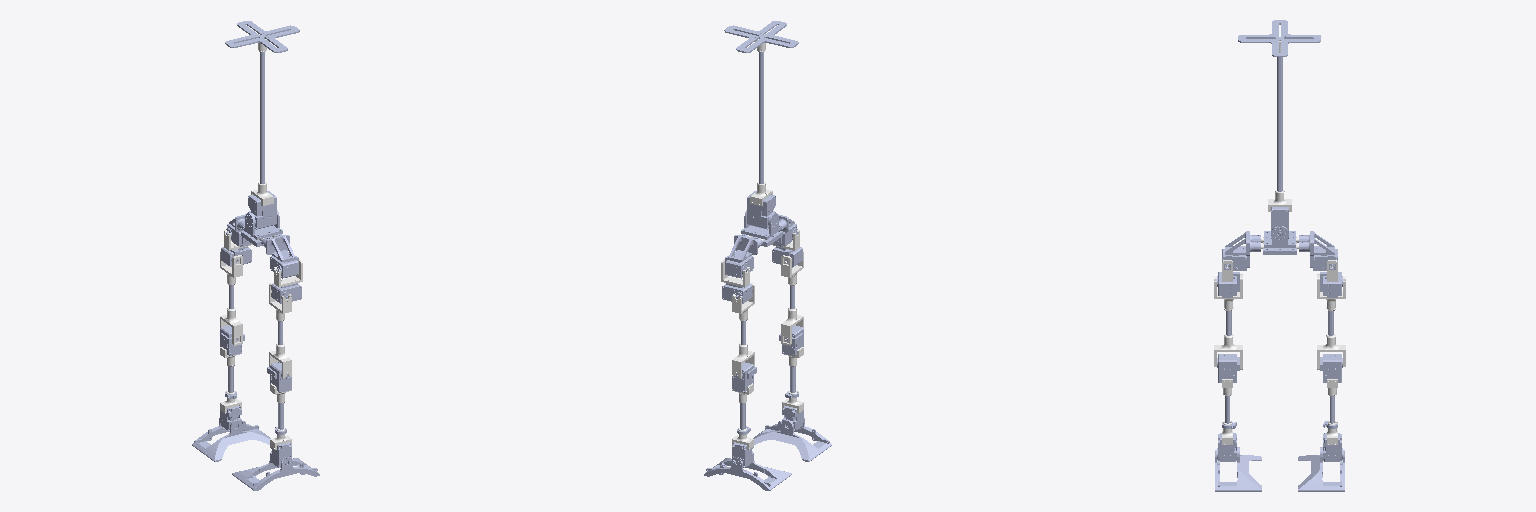
--- What the picture shows (computed from the rendered views, not written in the file) ---
The picture shows the robot from 3 angles, left to right: view 1: azimuth 30°, elevation 25°; view 2: azimuth 150°, elevation 25°; view 3: azimuth 270°, elevation 25°; orthographic projection.
Robot: biped_v4 — 47 links, 46 joints (9 revolute, 37 fixed); root link world; default pose: every joint at zero.
Links seen in each view (by area): view 1: revolute_rightfoot, revolute_leftfoot, fix_torsoweight, servo1, fix_torsolink2, fix_leftlegtobaselink; view 2: revolute_leftfoot, revolute_rightfoot, fix_torsoweight, servo1, fix_torsolink2, fix_rightlegtobaselink; view 3: fix_torsoweight, revolute_leftfoot, revolute_rightfoot, fix_torsolink2, fix_leftlegtobaselink, fix_rightlegtobaselink.
Link boxes in pixels (box(x1,y1,x2,y2)): revolute_rightfoot: box(192, 418, 270, 461); revolute_leftfoot: box(232, 451, 319, 490); fix_torsoweight: box(225, 21, 299, 52); servo1: box(248, 191, 276, 229); fix_torsolink2: box(260, 52, 264, 183); fix_leftlegtobaselink: box(261, 234, 295, 261); revolute_leftfoot: box(753, 418, 831, 461); revolute_rightfoot: box(704, 451, 791, 490); fix_torsoweight: box(724, 21, 798, 52); servo1: box(747, 191, 775, 229); fix_torsolink2: box(759, 52, 763, 183); fix_rightlegtobaselink: box(728, 234, 762, 261); fix_torsoweight: box(1238, 20, 1320, 56); revolute_leftfoot: box(1215, 447, 1261, 491); revolute_rightfoot: box(1298, 447, 1344, 491); fix_torsolink2: box(1277, 57, 1282, 191); fix_leftlegtobaselink: box(1225, 231, 1260, 267); fix_rightlegtobaselink: box(1299, 231, 1334, 267).
Bounding box of the posed robot: 0.1605 × 0.2365 × 0.8764 m (x, y, z).
Meshes: 46 distinct files referenced, 46 mesh visuals loaded (46 binary STL).

URDF robot description (biped_v4):
<?xml version="1.0" ?>
<!-- =================================================================================== -->
<!-- |    This document was autogenerated by xacro from /ros2_ws/src/robot_bringup/urdf/biped_v4.urdf.xacro | -->
<!-- |    EDITING THIS FILE BY HAND IS NOT RECOMMENDED                                 | -->
<!-- =================================================================================== -->
<robot name="biped_v4">
  <!-- WORLD -->
  <link name="world"/>
  <!-- BASE LINK -->
  <joint name="base_joint" type="fixed">
    <parent link="world"/>
    <child link="base_link"/>
    <origin rpy="0 0 0" xyz="0.0 0.0 1.0"/>
  </joint>
  <link name="base_link">
    <inertial>
      <origin rpy="0 0 0" xyz="-1.1257E-18 1.209E-17 0.0040839"/>
      <mass value="0.018"/>
      <inertia ixx="8.1069E-06" ixy="3.6409E-21" ixz="-1.5116E-21" iyy="8.5785E-06" iyz="1.6877E-21" izz="1.6342E-05"/>
    </inertial>
    <visual>
      <origin rpy="0 0 0" xyz="0 0 0"/>
      <geometry>
        <mesh filename="meshes/base_link.STL"/>
      </geometry>
      <material name="">
        <color rgba="0.79216 0.81961 0.93333 1"/>
      </material>
    </visual>
    <collision>
      <origin rpy="0 0 0" xyz="0 0 0"/>
      <geometry>
        <mesh filename="meshes/base_link.STL"/>
      </geometry>
    </collision>
  </link>
  <link name="fix_leftlegtobaselink">
    <inertial>
      <origin rpy="0 0 0" xyz="3.1196E-09 -0.059316 0.0042205"/>
      <mass value="0.028"/>
      <inertia ixx="8.1588E-06" ixy="-1.3085E-13" ixz="-4.33E-11" iyy="7.7241E-06" iyz="-9.9424E-07" izz="8.6259E-06"/>
    </inertial>
    <visual>
      <origin rpy="0 0 0" xyz="0 0 0"/>
      <geometry>
        <mesh filename="meshes/fix_leftlegtobaselink.STL"/>
      </geometry>
      <material name="">
        <color rgba="0.79216 0.81961 0.93333 1"/>
      </material>
    </visual>
    <collision>
      <origin rpy="0 0 0" xyz="0 0 0"/>
      <geometry>
        <mesh filename="meshes/fix_leftlegtobaselink.STL"/>
      </geometry>
    </collision>
  </link>
  <joint name="leftlegtobaselink" type="fixed">
    <origin rpy="0 0 0" xyz="0 0 0"/>
    <parent link="base_link"/>
    <child link="fix_leftlegtobaselink"/>
    <axis xyz="0 0 0"/>
  </joint>
  <link name="fix_lefthip1towaist">
    <inertial>
      <origin rpy="0 0 0" xyz="-0.00081105 -0.082311 -0.024125"/>
      <mass value="0.08"/>
      <inertia ixx="1.0361E-05" ixy="-2.2331E-07" ixz="-2.3381E-17" iyy="6.7254E-06" iyz="-2.8598E-14" izz="1.1542E-05"/>
    </inertial>
    <visual>
      <origin rpy="0 0 0" xyz="0 0 0"/>
      <geometry>
        <mesh filename="meshes/fix_lefthip1towaist.STL"/>
      </geometry>
      <material name="">
        <color rgba="0.79216 0.81961 0.93333 1"/>
      </material>
    </visual>
    <collision>
      <origin rpy="0 0 0" xyz="0 0 0"/>
      <geometry>
        <mesh filename="meshes/fix_lefthip1towaist.STL"/>
      </geometry>
    </collision>
  </link>
  <joint name="lefthip1towaist" type="fixed">
    <origin rpy="0 0 0" xyz="0 0 0"/>
    <parent link="fix_leftlegtobaselink"/>
    <child link="fix_lefthip1towaist"/>
    <axis xyz="0 0 0"/>
  </joint>
  <link name="revolute_left_femur1_1">
    <inertial>
      <origin rpy="0 0 0" xyz="0.019235 -1.3878E-17 0.026145"/>
      <mass value="0.016"/>
      <inertia ixx="4.4847E-06" ixy="-3.2515E-22" ixz="2.5399E-07" iyy="5.4156E-06" iyz="6.6534E-22" izz="1.6499E-06"/>
    </inertial>
    <visual>
      <origin rpy="0 0 0" xyz="0 0 0"/>
      <geometry>
        <mesh filename="meshes/revolute_left_femur1_1.STL"/>
      </geometry>
      <material name="">
        <color rgba="1 1 1 1"/>
      </material>
    </visual>
    <collision>
      <origin rpy="0 0 0" xyz="0 0 0"/>
      <geometry>
        <mesh filename="meshes/revolute_left_femur1_1.STL"/>
      </geometry>
    </collision>
  </link>
  <joint name="left_hip1" type="revolute">
    <origin rpy="0 1.5707963267949 0" xyz="-0.0234 -0.09425 -0.024125"/>
    <parent link="fix_lefthip1towaist"/>
    <child link="revolute_left_femur1_1"/>
    <axis xyz="0 0 -1"/>
    <limit effort="5" lower="0" upper="0.3" velocity="4"/>
  </joint>
  <link name="fix_leftfemur1_2">
    <inertial>
      <origin rpy="0 0 0" xyz="0.048875 -0.00081105 0.021339"/>
      <mass value="0.08"/>
      <inertia ixx="1.1542E-05" ixy="-2.3396E-17" ixz="-2.8598E-14" iyy="1.0361E-05" iyz="-2.2331E-07" izz="6.7254E-06"/>
    </inertial>
    <visual>
      <origin rpy="0 0 0" xyz="0 0 0"/>
      <geometry>
        <mesh filename="meshes/fix_leftfemur1_2.STL"/>
      </geometry>
      <material name="">
        <color rgba="0.79216 0.81961 0.93333 1"/>
      </material>
    </visual>
    <collision>
      <origin rpy="0 0 0" xyz="0 0 0"/>
      <geometry>
        <mesh filename="meshes/fix_leftfemur1_2.STL"/>
      </geometry>
    </collision>
  </link>
  <joint name="leftfemur1_2" type="fixed">
    <origin rpy="0 0 0" xyz="0 0 0"/>
    <parent link="revolute_left_femur1_1"/>
    <child link="fix_leftfemur1_2"/>
    <axis xyz="0 0 0"/>
  </joint>
  <link name="revolute_left_femur2_1">
    <inertial>
      <origin rpy="0 0 0" xyz="-1.5434E-11 -0.024976 -0.025952"/>
      <mass value="0.016"/>
      <inertia ixx="7.0717E-06" ixy="-1.5333E-15" ixz="2.8537E-12" iyy="4.694E-06" iyz="2.9746E-07" izz="3.2637E-06"/>
    </inertial>
    <visual>
      <origin rpy="0 0 0" xyz="0 0 0"/>
      <geometry>
        <mesh filename="meshes/revolute_left_femur2_1.STL"/>
      </geometry>
      <material name="">
        <color rgba="1 1 1 1"/>
      </material>
    </visual>
    <collision>
      <origin rpy="0 0 0" xyz="0 0 0"/>
      <geometry>
        <mesh filename="meshes/revolute_left_femur2_1.STL"/>
      </geometry>
    </collision>
  </link>
  <joint name="left_hip2" type="revolute">
    <origin rpy="1.5707963267949 -1.5707963267949 0" xyz="0.048875 -0.0234 0.00939999999999994"/>
    <parent link="fix_leftfemur1_2"/>
    <child link="revolute_left_femur2_1"/>
    <axis xyz="0 0 1"/>
    <limit effort="5" lower="-1.732" upper="1.732" velocity="5"/>
  </joint>
  <link name="fix_left_femur2_2">
    <inertial>
      <origin rpy="0 0 0" xyz="1.5434E-11 -0.13702 -0.025952"/>
      <mass value="0.016"/>
      <inertia ixx="7.0717E-06" ixy="-1.5333E-15" ixz="-2.8537E-12" iyy="4.694E-06" iyz="-2.9746E-07" izz="3.2637E-06"/>
    </inertial>
    <visual>
      <origin rpy="0 0 0" xyz="0 0 0"/>
      <geometry>
        <mesh filename="meshes/fix_left_femur2_2.STL"/>
      </geometry>
      <material name="">
        <color rgba="1 1 1 1"/>
      </material>
    </visual>
    <collision>
      <origin rpy="0 0 0" xyz="0 0 0"/>
      <geometry>
        <mesh filename="meshes/fix_left_femur2_2.STL"/>
      </geometry>
    </collision>
  </link>
  <joint name="left_femur2_2" type="fixed">
    <origin rpy="0 0 0" xyz="0 0 0"/>
    <parent link="revolute_left_femur2_1"/>
    <child link="fix_left_femur2_2"/>
    <axis xyz="0 0 0"/>
  </joint>
  <link name="revolute_left_knee">
    <inertial>
      <origin rpy="0 0 0" xyz="6.9714E-13 -0.011939 0.022589"/>
      <mass value="0.08"/>
      <inertia ixx="1.1542E-05" ixy="2.8598E-14" ixz="-2.338E-17" iyy="6.7254E-06" iyz="2.2331E-07" izz="1.0361E-05"/>
    </inertial>
    <visual>
      <origin rpy="0 0 0" xyz="0 0 0"/>
      <geometry>
        <mesh filename="meshes/revolute_left_knee.STL"/>
      </geometry>
      <material name="">
        <color rgba="0.79216 0.81961 0.93333 1"/>
      </material>
    </visual>
    <collision>
      <origin rpy="0 0 0" xyz="0 0 0"/>
      <geometry>
        <mesh filename="meshes/revolute_left_knee.STL"/>
      </geometry>
    </collision>
  </link>
  <joint name="left_knee" type="revolute">
    <origin rpy="-3.14159265358979 0 -3.14159265358979" xyz="0 -0.162 0"/>
    <parent link="fix_left_femur2_2"/>
    <child link="revolute_left_knee"/>
    <axis xyz="0 0 1"/>
    <limit effort="5" lower="-2" upper="2" velocity="5"/>
  </joint>
  <link name="fix_lefttibia_1">
    <inertial>
      <origin rpy="0 0 0" xyz="-8.9841E-06 -0.16908 0.022299"/>
      <mass value="0.04"/>
      <inertia ixx="1.096E-05" ixy="-4.4082E-09" ixz="-5.2455E-09" iyy="6.3088E-06" iyz="-2.5553E-07" izz="9.8712E-06"/>
    </inertial>
    <visual>
      <origin rpy="0 0 0" xyz="0 0 0"/>
      <geometry>
        <mesh filename="meshes/fix_lefttibia_1.STL"/>
      </geometry>
      <material name="">
        <color rgba="0.79216 0.81961 0.93333 1"/>
      </material>
    </visual>
    <collision>
      <origin rpy="0 0 0" xyz="0 0 0"/>
      <geometry>
        <mesh filename="meshes/fix_lefttibia_1.STL"/>
      </geometry>
    </collision>
  </link>
  <joint name="lefttibia_1" type="fixed">
    <origin rpy="0 0 0" xyz="0 0 0"/>
    <parent link="revolute_left_knee"/>
    <child link="fix_lefttibia_1"/>
    <axis xyz="0 0 0"/>
  </joint>
  <link name="revolute_leftfoot">
    <inertial>
      <origin rpy="0 0 0" xyz="-0.028804 -1.6064E-07 0.033846"/>
      <mass value="0.05"/>
      <inertia ixx="0.00015493" ixy="-5.5007E-11" ixz="3.0716E-06" iyy="3.7481E-05" iyz="6.021E-11" izz="0.00012863"/>
    </inertial>
    <visual>
      <origin rpy="0 0 0" xyz="0 0 0"/>
      <geometry>
        <mesh filename="meshes/revolute_leftfoot.STL"/>
      </geometry>
      <material name="">
        <color rgba="0.79216 0.81961 0.93333 1"/>
      </material>
    </visual>
    <collision>
      <origin rpy="0 0 0" xyz="0 0 0"/>
      <geometry>
        <mesh filename="meshes/revolute_leftfoot.STL"/>
      </geometry>
    </collision>
  </link>
  <joint name="left_ankle" type="revolute">
    <origin rpy="0 0 1.57079632679489" xyz="0 -0.181000000000001 0.00250000000000145"/>
    <parent link="fix_lefttibia_1"/>
    <child link="revolute_leftfoot"/>
    <axis xyz="0 0 -1"/>
    <limit effort="5" lower="-1.732" upper="1.732" velocity="5"/>
  </joint>
  <link name="fix_lefttibia_2">
    <inertial>
      <origin rpy="0 0 0" xyz="3.7002E-15 -0.13991 0.0234"/>
      <mass value="0.01"/>
      <inertia ixx="8.4456E-07" ixy="-7.3769E-20" ixz="1.598E-13" iyy="1.1166E-06" iyz="9.6352E-20" izz="1.4884E-06"/>
    </inertial>
    <visual>
      <origin rpy="0 0 0" xyz="0 0 0"/>
      <geometry>
        <mesh filename="meshes/fix_lefttibia_2.STL"/>
      </geometry>
      <material name="">
        <color rgba="1 1 1 1"/>
      </material>
    </visual>
    <collision>
      <origin rpy="0 0 0" xyz="0 0 0"/>
      <geometry>
        <mesh filename="meshes/fix_lefttibia_2.STL"/>
      </geometry>
    </collision>
  </link>
  <joint name="lefttibia_2" type="fixed">
    <origin rpy="0 0 0" xyz="0 0 0"/>
    <parent link="revolute_left_knee"/>
    <child link="fix_lefttibia_2"/>
    <axis xyz="0 0 0"/>
  </joint>
  <link name="fix_lefttibia_3">
    <inertial>
      <origin rpy="0 0 0" xyz="-0.00077912 -0.1234 0.026003"/>
      <mass value="0.0008"/>
      <inertia ixx="8.7805E-08" ixy="7.215E-23" ixz="8.4902E-09" iyy="1.4099E-07" iyz="-1.6657E-22" izz="6.0985E-08"/>
    </inertial>
    <visual>
      <origin rpy="0 0 0" xyz="0 0 0"/>
      <geometry>
        <mesh filename="meshes/fix_lefttibia_3.STL"/>
      </geometry>
      <material name="">
        <color rgba="0.79216 0.81961 0.93333 1"/>
      </material>
    </visual>
    <collision>
      <origin rpy="0 0 0" xyz="0 0 0"/>
      <geometry>
        <mesh filename="meshes/fix_lefttibia_3.STL"/>
      </geometry>
    </collision>
  </link>
  <joint name="lefttibia_3" type="fixed">
    <origin rpy="0 0 0" xyz="0 0 0"/>
    <parent link="revolute_left_knee"/>
    <child link="fix_lefttibia_3"/>
    <axis xyz="0 0 0"/>
  </joint>
  <link name="fix_lefttibia_4">
    <inertial>
      <origin rpy="0 0 0" xyz="-3.6429E-17 -0.0905 0.0234"/>
      <mass value="0.007"/>
      <inertia ixx="2.3852E-06" ixy="-1.1607E-21" ixz="1.9172E-24" iyy="5.7962E-08" iyz="1.2953E-21" izz="2.3852E-06"/>
    </inertial>
    <visual>
      <origin rpy="0 0 0" xyz="0 0 0"/>
      <geometry>
        <mesh filename="meshes/fix_lefttibia_4.STL"/>
      </geometry>
      <material name="">
        <color rgba="0.79216 0.81961 0.93333 1"/>
      </material>
    </visual>
    <collision>
      <origin rpy="0 0 0" xyz="0 0 0"/>
      <geometry>
        <mesh filename="meshes/fix_lefttibia_4.STL"/>
      </geometry>
    </collision>
  </link>
  <joint name="lefttibia_4" type="fixed">
    <origin rpy="0 0 0" xyz="0 0 0"/>
    <parent link="revolute_left_knee"/>
    <child link="fix_lefttibia_4"/>
    <axis xyz="0 0 0"/>
  </joint>
  <link name="fix_lefttibia_5">
    <inertial>
      <origin rpy="0 0 0" xyz="3.8181E-15 -0.04109 0.0234"/>
      <mass value="0.01"/>
      <inertia ixx="8.4456E-07" ixy="7.5351E-20" ixz="-1.598E-13" iyy="1.1166E-06" iyz="9.6295E-20" izz="1.4884E-06"/>
    </inertial>
    <visual>
      <origin rpy="0 0 0" xyz="0 0 0"/>
      <geometry>
        <mesh filename="meshes/fix_lefttibia_5.STL"/>
      </geometry>
      <material name="">
        <color rgba="1 1 1 1"/>
      </material>
    </visual>
    <collision>
      <origin rpy="0 0 0" xyz="0 0 0"/>
      <geometry>
        <mesh filename="meshes/fix_lefttibia_5.STL"/>
      </geometry>
    </collision>
  </link>
  <joint name="lefttibia_5" type="fixed">
    <origin rpy="0 0 0" xyz="0 0 0"/>
    <parent link="revolute_left_knee"/>
    <child link="fix_lefttibia_5"/>
    <axis xyz="0 0 0"/>
  </joint>
  <link name="fix_lefttibia_6">
    <inertial>
      <origin rpy="0 0 0" xyz="1.2143E-17 -0.00179 0.035364"/>
      <mass value="0.004"/>
      <inertia ixx="4.093E-07" ixy="2.5838E-23" ixz="2.8347E-22" iyy="1.0855E-06" iyz="1.343E-09" izz="7.5439E-07"/>
    </inertial>
    <visual>
      <origin rpy="0 0 0" xyz="0 0 0"/>
      <geometry>
        <mesh filename="meshes/fix_lefttibia_6.STL"/>
      </geometry>
      <material name="">
        <color rgba="0.79216 0.81961 0.93333 1"/>
      </material>
    </visual>
    <collision>
      <origin rpy="0 0 0" xyz="0 0 0"/>
      <geometry>
        <mesh filename="meshes/fix_lefttibia_6.STL"/>
      </geometry>
    </collision>
  </link>
  <joint name="lefttibia_6" type="fixed">
    <origin rpy="0 0 0" xyz="0 0 0"/>
    <parent link="revolute_left_knee"/>
    <child link="fix_lefttibia_6"/>
    <axis xyz="0 0 0"/>
  </joint>
  <link name="fix_left_femur2_3">
    <inertial>
      <origin rpy="0 0 0" xyz="2.5327E-16 -0.081 -0.0254"/>
      <mass value="0.007"/>
      <inertia ixx="2.3852E-06" ixy="3.2772E-21" ixz="6.7208E-24" iyy="5.7962E-08" iyz="-3.8231E-22" izz="2.3852E-06"/>
    </inertial>
    <visual>
      <origin rpy="0 0 0" xyz="0 0 0"/>
      <geometry>
        <mesh filename="meshes/fix_left_femur2_3.STL"/>
      </geometry>
      <material name="">
        <color rgba="0.79216 0.81961 0.93333 1"/>
      </material>
    </visual>
    <collision>
      <origin rpy="0 0 0" xyz="0 0 0"/>
      <geometry>
        <mesh filename="meshes/fix_left_femur2_3.STL"/>
      </geometry>
    </collision>
  </link>
  <joint name="left_femur2_3" type="fixed">
    <origin rpy="0 0 0" xyz="0 0 0"/>
    <parent link="revolute_left_femur2_1"/>
    <child link="fix_left_femur2_3"/>
    <axis xyz="0 0 0"/>
  </joint>
  <link name="fix_femur1_3">
    <inertial>
      <origin rpy="0 0 0" xyz="0.048875 0.0066861 0.018792"/>
      <mass value="0.008"/>
      <inertia ixx="1.446E-06" ixy="-2.2903E-22" ixz="6.4287E-22" iyy="2.2684E-06" iyz="3.6652E-07" izz="2.2752E-06"/>
    </inertial>
    <visual>
      <origin rpy="0 0 0" xyz="0 0 0"/>
      <geometry>
        <mesh filename="meshes/fix_femur1_3.STL"/>
      </geometry>
      <material name="">
        <color rgba="0.79216 0.81961 0.93333 1"/>
      </material>
    </visual>
    <collision>
      <origin rpy="0 0 0" xyz="0 0 0"/>
      <geometry>
        <mesh filename="meshes/fix_femur1_3.STL"/>
      </geometry>
    </collision>
  </link>
  <joint name="femur1_3" type="fixed">
    <origin rpy="0 0 0" xyz="0 0 0"/>
    <parent link="revolute_left_femur1_1"/>
    <child link="fix_femur1_3"/>
    <axis xyz="0 0 0"/>
  </joint>
  <link name="fix_femur1_4">
    <inertial>
      <origin rpy="0 0 0" xyz="-2.0817E-17 -9.7145E-17 0.0494"/>
      <mass value="0.0003"/>
      <inertia ixx="7.2605E-09" ixy="-4.1175E-24" ixz="-5.5707E-25" iyy="7.2605E-09" iyz="-7.9711E-25" izz="1.3645E-08"/>
    </inertial>
    <visual>
      <origin rpy="0 0 0" xyz="0 0 0"/>
      <geometry>
        <mesh filename="meshes/fix_femur1_4.STL"/>
      </geometry>
      <material name="">
        <color rgba="0.79216 0.81961 0.93333 1"/>
      </material>
    </visual>
    <collision>
      <origin rpy="0 0 0" xyz="0 0 0"/>
      <geometry>
        <mesh filename="meshes/fix_femur1_4.STL"/>
      </geometry>
    </collision>
  </link>
  <joint name="femur1_4" type="fixed">
    <origin rpy="0 0 0" xyz="0 0 0"/>
    <parent link="revolute_left_femur1_1"/>
    <child link="fix_femur1_4"/>
    <axis xyz="0 0 0"/>
  </joint>
  <link name="fix_lefthip1motorbody">
    <inertial>
      <origin rpy="0 0 0" xyz="1.0408E-17 0.0093922 0.030086"/>
      <mass value="0.008"/>
      <inertia ixx="1.446E-06" ixy="-4.6045E-22" ixz="5.3961E-23" iyy="2.2752E-06" iyz="3.6652E-07" izz="2.2684E-06"/>
    </inertial>
    <visual>
      <origin rpy="0 0 0" xyz="0 0 0"/>
      <geometry>
        <mesh filename="meshes/fix_lefthip1motorbody.STL"/>
      </geometry>
      <material name="">
        <color rgba="0.79216 0.81961 0.93333 1"/>
      </material>
    </visual>
    <collision>
      <origin rpy="0 0 0" xyz="0 0 0"/>
      <geometry>
        <mesh filename="meshes/fix_lefthip1motorbody.STL"/>
      </geometry>
    </collision>
  </link>
  <joint name="lefthip1motorbody" type="fixed">
    <origin rpy="0 1.5707963267949 0" xyz="-0.0234 -0.09425 -0.024125"/>
    <parent link="fix_leftlegtobaselink"/>
    <child link="fix_lefthip1motorbody"/>
    <axis xyz="0 0 0"/>
  </joint>
  <link name="fix_rightlegtobaselink">
    <inertial>
      <origin rpy="0 0 0" xyz="-3.1196E-09 0.059316 0.0042205"/>
      <mass value="0.028"/>
      <inertia ixx="8.1588E-06" ixy="-1.3085E-13" ixz="4.33E-11" iyy="7.7241E-06" iyz="9.9424E-07" izz="8.6259E-06"/>
    </inertial>
    <visual>
      <origin rpy="0 0 0" xyz="0 0 0"/>
      <geometry>
        <mesh filename="meshes/fix_rightlegtobaselink.STL"/>
      </geometry>
      <material name="">
        <color rgba="0.79216 0.81961 0.93333 1"/>
      </material>
    </visual>
    <collision>
      <origin rpy="0 0 0" xyz="0 0 0"/>
      <geometry>
        <mesh filename="meshes/fix_rightlegtobaselink.STL"/>
      </geometry>
    </collision>
  </link>
  <joint name="rightlegtobaselink" type="fixed">
    <origin rpy="0 0 0" xyz="0 0 0"/>
    <parent link="base_link"/>
    <child link="fix_rightlegtobaselink"/>
    <axis xyz="0 0 0"/>
  </joint>
  <link name="fix_righthip1towaist">
    <inertial>
      <origin rpy="0 0 0" xyz="-0.00081105 0.082311 -0.024125"/>
      <mass value="0.08"/>
      <inertia ixx="1.0361E-05" ixy="2.2331E-07" ixz="2.3379E-17" iyy="6.7254E-06" iyz="-2.8598E-14" izz="1.1542E-05"/>
    </inertial>
    <visual>
      <origin rpy="0 0 0" xyz="0 0 0"/>
      <geometry>
        <mesh filename="meshes/fix_righthip1towaist.STL"/>
      </geometry>
      <material name="">
        <color rgba="0.79216 0.81961 0.93333 1"/>
      </material>
    </visual>
    <collision>
      <origin rpy="0 0 0" xyz="0 0 0"/>
      <geometry>
        <mesh filename="meshes/fix_righthip1towaist.STL"/>
      </geometry>
    </collision>
  </link>
  <joint name="righthip1towaist" type="fixed">
    <origin rpy="0 0 0" xyz="0 0 0"/>
    <parent link="fix_rightlegtobaselink"/>
    <child link="fix_righthip1towaist"/>
    <axis xyz="0 0 0"/>
  </joint>
  <link name="revolute_rightfemer1_1">
    <inertial>
      <origin rpy="0 0 0" xyz="-1.3878E-17 -0.019235 0.026145"/>
      <mass value="0.016"/>
      <inertia ixx="5.4156E-06" ixy="-6.7112E-24" ixz="4.1894E-23" iyy="4.4847E-06" iyz="-2.5399E-07" izz="1.6499E-06"/>
    </inertial>
    <visual>
      <origin rpy="0 0 0" xyz="0 0 0"/>
      <geometry>
        <mesh filename="meshes/revolute_rightfemer1_1.STL"/>
      </geometry>
      <material name="">
        <color rgba="1 1 1 1"/>
      </material>
    </visual>
    <collision>
      <origin rpy="0 0 0" xyz="0 0 0"/>
      <geometry>
        <mesh filename="meshes/revolute_rightfemer1_1.STL"/>
      </geometry>
    </collision>
  </link>
  <joint name="right_hip1" type="revolute">
    <origin rpy="1.5707963267949 0 1.5707963267949" xyz="-0.0234 0.09425 -0.024125"/>
    <parent link="fix_righthip1towaist"/>
    <child link="revolute_rightfemer1_1"/>
    <axis xyz="0 0 -1"/>
    <limit effort="5" lower="-0.3" upper="0" velocity="5"/>
  </joint>
  <link name="fix_right_femer1_2">
    <inertial>
      <origin rpy="0 0 0" xyz="0.00081105 -0.048875 0.021339"/>
      <mass value="0.08"/>
      <inertia ixx="1.0361E-05" ixy="2.3366E-17" ixz="2.2331E-07" iyy="1.1542E-05" iyz="-2.8598E-14" izz="6.7254E-06"/>
    </inertial>
    <visual>
      <origin rpy="0 0 0" xyz="0 0 0"/>
      <geometry>
        <mesh filename="meshes/fix_right_femer1_2.STL"/>
      </geometry>
      <material name="">
        <color rgba="0.79216 0.81961 0.93333 1"/>
      </material>
    </visual>
    <collision>
      <origin rpy="0 0 0" xyz="0 0 0"/>
      <geometry>
        <mesh filename="meshes/fix_right_femer1_2.STL"/>
      </geometry>
    </collision>
  </link>
  <joint name="rightfemer1_2" type="fixed">
    <origin rpy="0 0 0" xyz="0 0 0"/>
    <parent link="revolute_rightfemer1_1"/>
    <child link="fix_right_femer1_2"/>
    <axis xyz="0 0 0"/>
  </joint>
  <link name="revolute_right_femur2_1">
    <inertial>
      <origin rpy="0 0 0" xyz="-1.5434E-11 -0.024976 -0.025952"/>
      <mass value="0.016"/>
      <inertia ixx="7.0717E-06" ixy="-1.5333E-15" ixz="2.8537E-12" iyy="4.694E-06" iyz="2.9746E-07" izz="3.2637E-06"/>
    </inertial>
    <visual>
      <origin rpy="0 0 0" xyz="0 0 0"/>
      <geometry>
        <mesh filename="meshes/revolute_right_femur2_1.STL"/>
      </geometry>
      <material name="">
        <color rgba="1 1 1 1"/>
      </material>
    </visual>
    <collision>
      <origin rpy="0 0 0" xyz="0 0 0"/>
      <geometry>
        <mesh filename="meshes/revolute_right_femur2_1.STL"/>
      </geometry>
    </collision>
  </link>
  <joint name="right_hip2" type="revolute">
    <origin rpy="0 1.5707963267949 0" xyz="0.0233999999999999 -0.048875 0.00940000000000001"/>
    <parent link="fix_right_femer1_2"/>
    <child link="revolute_right_femur2_1"/>
    <axis xyz="0 0 -1"/>
    <limit effort="5" lower="-1.732" upper="1.732" velocity="5"/>
  </joint>
  <link name="fix_right_femur2_2">
    <inertial>
      <origin rpy="0 0 0" xyz="1.5435E-11 -0.13702 -0.025952"/>
      <mass value="0.016"/>
      <inertia ixx="7.0717E-06" ixy="-1.5333E-15" ixz="-2.8537E-12" iyy="4.694E-06" iyz="-2.9746E-07" izz="3.2637E-06"/>
    </inertial>
    <visual>
      <origin rpy="0 0 0" xyz="0 0 0"/>
      <geometry>
        <mesh filename="meshes/fix_right_femur2_2.STL"/>
      </geometry>
      <material name="">
        <color rgba="1 1 1 1"/>
      </material>
    </visual>
    <collision>
      <origin rpy="0 0 0" xyz="0 0 0"/>
      <geometry>
        <mesh filename="meshes/fix_right_femur2_2.STL"/>
      </geometry>
    </collision>
  </link>
  <joint name="right_femur2_2" type="fixed">
    <origin rpy="0 0 0" xyz="0 0 0"/>
    <parent link="revolute_right_femur2_1"/>
    <child link="fix_right_femur2_2"/>
    <axis xyz="0 0 0"/>
  </joint>
  <link name="revolute_right_knee">
    <inertial>
      <origin rpy="0 0 0" xyz="-6.9722E-13 -0.011939 -0.022589"/>
      <mass value="0.08"/>
      <inertia ixx="1.1542E-05" ixy="-2.8598E-14" ixz="-2.3381E-17" iyy="6.7254E-06" iyz="-2.2331E-07" izz="1.0361E-05"/>
    </inertial>
    <visual>
      <origin rpy="0 0 0" xyz="0 0 0"/>
      <geometry>
        <mesh filename="meshes/revolute_right_knee.STL"/>
      </geometry>
      <material name="">
        <color rgba="0.79216 0.81961 0.93333 1"/>
      </material>
    </visual>
    <collision>
      <origin rpy="0 0 0" xyz="0 0 0"/>
      <geometry>
        <mesh filename="meshes/revolute_right_knee.STL"/>
      </geometry>
    </collision>
  </link>
  <joint name="right_knee" type="revolute">
    <origin rpy="0 0 0" xyz="0 -0.162000000000005 0"/>
    <parent link="fix_right_femur2_2"/>
    <child link="revolute_right_knee"/>
    <axis xyz="0 0 -1"/>
    <limit effort="5" lower="-2" upper="2" velocity="5"/>
  </joint>
  <link name="fix_righttibia_1">
    <inertial>
      <origin rpy="0 0 0" xyz="8.9841E-06 -0.16908 -0.022299"/>
      <mass value="0.04"/>
      <inertia ixx="1.096E-05" ixy="4.4082E-09" ixz="-5.2455E-09" iyy="6.3088E-06" iyz="2.5553E-07" izz="9.8712E-06"/>
    </inertial>
    <visual>
      <origin rpy="0 0 0" xyz="0 0 0"/>
      <geometry>
        <mesh filename="meshes/fix_righttibia_1.STL"/>
      </geometry>
      <material name="">
        <color rgba="0.79216 0.81961 0.93333 1"/>
      </material>
    </visual>
    <collision>
      <origin rpy="0 0 0" xyz="0 0 0"/>
      <geometry>
        <mesh filename="meshes/fix_righttibia_1.STL"/>
      </geometry>
    </collision>
  </link>
  <joint name="righttibia_1" type="fixed">
    <origin rpy="0 0 0" xyz="0 0 0"/>
    <parent link="revolute_right_knee"/>
    <child link="fix_righttibia_1"/>
    <axis xyz="0 0 0"/>
  </joint>
  <link name="revolute_rightfoot">
    <inertial>
      <origin rpy="0 0 0" xyz="-1.6064E-07 -0.028804 -0.033846"/>
      <mass value="0.05"/>
      <inertia ixx="3.7481E-05" ixy="-5.5007E-11" ixz="-6.021E-11" iyy="0.00015493" iyz="-3.0716E-06" izz="0.00012863"/>
    </inertial>
    <visual>
      <origin rpy="0 0 0" xyz="0 0 0"/>
      <geometry>
        <mesh filename="meshes/revolute_rightfoot.STL"/>
      </geometry>
      <material name="">
        <color rgba="0.79216 0.81961 0.93333 1"/>
      </material>
    </visual>
    <collision>
      <origin rpy="0 0 0" xyz="0 0 0"/>
      <geometry>
        <mesh filename="meshes/revolute_rightfoot.STL"/>
      </geometry>
    </collision>
  </link>
  <joint name="right_ankle" type="revolute">
    <origin rpy="0 0 0" xyz="0 -0.181000000000001 -0.00250000000000579"/>
    <parent link="fix_righttibia_1"/>
    <child link="revolute_rightfoot"/>
    <axis xyz="0 0 -1"/>
    <limit effort="5" lower="-1.732" upper="1.732" velocity="5"/>
  </joint>
  <link name="fix_righttibia_2">
    <inertial>
      <origin rpy="0 0 0" xyz="-3.4573E-15 -0.13991 -0.0234"/>
      <mass value="0.01"/>
      <inertia ixx="8.4456E-07" ixy="7.5676E-20" ixz="1.598E-13" iyy="1.1166E-06" iyz="-9.714E-20" izz="1.4884E-06"/>
    </inertial>
    <visual>
      <origin rpy="0 0 0" xyz="0 0 0"/>
      <geometry>
        <mesh filename="meshes/fix_righttibia_2.STL"/>
      </geometry>
      <material name="">
        <color rgba="1 1 1 1"/>
      </material>
    </visual>
    <collision>
      <origin rpy="0 0 0" xyz="0 0 0"/>
      <geometry>
        <mesh filename="meshes/fix_righttibia_2.STL"/>
      </geometry>
    </collision>
  </link>
  <joint name="righttibia_2" type="fixed">
    <origin rpy="0 0 0" xyz="0 0 0"/>
    <parent link="revolute_right_knee"/>
    <child link="fix_righttibia_2"/>
    <axis xyz="0 0 0"/>
  </joint>
  <link name="fix_righttibia_3">
    <inertial>
      <origin rpy="0 0 0" xyz="0.00077912 -0.1234 -0.026003"/>
      <mass value="0.0008"/>
      <inertia ixx="8.7805E-08" ixy="7.4808E-23" ixz="8.4902E-09" iyy="1.4099E-07" iyz="3.841E-23" izz="6.0985E-08"/>
    </inertial>
    <visual>
      <origin rpy="0 0 0" xyz="0 0 0"/>
      <geometry>
        <mesh filename="meshes/fix_righttibia_3.STL"/>
      </geometry>
      <material name="">
        <color rgba="0.79216 0.81961 0.93333 1"/>
      </material>
    </visual>
    <collision>
      <origin rpy="0 0 0" xyz="0 0 0"/>
      <geometry>
        <mesh filename="meshes/fix_righttibia_3.STL"/>
      </geometry>
    </collision>
  </link>
  <joint name="righttibia_3" type="fixed">
    <origin rpy="0 0 0" xyz="0 0 0"/>
    <parent link="revolute_right_knee"/>
    <child link="fix_righttibia_3"/>
    <axis xyz="0 0 0"/>
  </joint>
  <link name="fix_righttibia_4">
    <inertial>
      <origin rpy="0 0 0" xyz="5.0307E-17 -0.0905 -0.0234"/>
      <mass value="0.007"/>
      <inertia ixx="2.3852E-06" ixy="-6.0832E-22" ixz="7.7548E-24" iyy="5.7962E-08" iyz="-3.4962E-21" izz="2.3852E-06"/>
    </inertial>
    <visual>
      <origin rpy="0 0 0" xyz="0 0 0"/>
      <geometry>
        <mesh filename="meshes/fix_righttibia_4.STL"/>
      </geometry>
      <material name="">
        <color rgba="0.79216 0.81961 0.93333 1"/>
      </material>
    </visual>
    <collision>
      <origin rpy="0 0 0" xyz="0 0 0"/>
      <geometry>
        <mesh filename="meshes/fix_righttibia_4.STL"/>
      </geometry>
    </collision>
  </link>
  <joint name="righttibia_4" type="fixed">
    <origin rpy="0 0 0" xyz="0 0 0"/>
    <parent link="revolute_right_knee"/>
    <child link="fix_righttibia_4"/>
    <axis xyz="0 0 0"/>
  </joint>
  <link name="fix_righttibia_5">
    <inertial>
      <origin rpy="0 0 0" xyz="-3.8893E-15 -0.04109 -0.0234"/>
      <mass value="0.01"/>
      <inertia ixx="8.4456E-07" ixy="-7.5064E-20" ixz="-1.598E-13" iyy="1.1166E-06" iyz="-9.6815E-20" izz="1.4884E-06"/>
    </inertial>
    <visual>
      <origin rpy="0 0 0" xyz="0 0 0"/>
      <geometry>
        <mesh filename="meshes/fix_righttibia_5.STL"/>
      </geometry>
      <material name="">
        <color rgba="1 1 1 1"/>
      </material>
    </visual>
    <collision>
      <origin rpy="0 0 0" xyz="0 0 0"/>
      <geometry>
        <mesh filename="meshes/fix_righttibia_5.STL"/>
      </geometry>
    </collision>
  </link>
  <joint name="righttibia_5" type="fixed">
    <origin rpy="0 0 0" xyz="0 0 0"/>
    <parent link="revolute_right_knee"/>
    <child link="fix_righttibia_5"/>
    <axis xyz="0 0 0"/>
  </joint>
  <link name="fix_righttibia_6">
    <inertial>
      <origin rpy="0 0 0" xyz="-7.8063E-17 -0.00179 -0.035364"/>
      <mass value="0.004"/>
      <inertia ixx="4.093E-07" ixy="4.9597E-23" ixz="-1.5841E-22" iyy="1.0855E-06" iyz="-1.343E-09" izz="7.5439E-07"/>
    </inertial>
    <visual>
      <origin rpy="0 0 0" xyz="0 0 0"/>
      <geometry>
        <mesh filename="meshes/fix_righttibia_6.STL"/>
      </geometry>
      <material name="">
        <color rgba="0.79216 0.81961 0.93333 1"/>
      </material>
    </visual>
    <collision>
      <origin rpy="0 0 0" xyz="0 0 0"/>
      <geometry>
        <mesh filename="meshes/fix_righttibia_6.STL"/>
      </geometry>
    </collision>
  </link>
  <joint name="righttibia_6" type="fixed">
    <origin rpy="0 0 0" xyz="0 0 0"/>
    <parent link="revolute_right_knee"/>
    <child link="fix_righttibia_6"/>
    <axis xyz="0 0 0"/>
  </joint>
  <link name="fix_right_femur2_3">
    <inertial>
      <origin rpy="0 0 0" xyz="9.1073E-16 -0.081 -0.0254"/>
      <mass value="0.007"/>
      <inertia ixx="2.3852E-06" ixy="-9.7387E-22" ixz="-1.4648E-24" iyy="5.7962E-08" iyz="7.6195E-22" izz="2.3852E-06"/>
    </inertial>
    <visual>
      <origin rpy="0 0 0" xyz="0 0 0"/>
      <geometry>
        <mesh filename="meshes/fix_right_femur2_3.STL"/>
      </geometry>
      <material name="">
        <color rgba="0.79216 0.81961 0.93333 1"/>
      </material>
    </visual>
    <collision>
      <origin rpy="0 0 0" xyz="0 0 0"/>
      <geometry>
        <mesh filename="meshes/fix_right_femur2_3.STL"/>
      </geometry>
    </collision>
  </link>
  <joint name="right_femur2_3" type="fixed">
    <origin rpy="0 0 0" xyz="0 0 0"/>
    <parent link="revolute_right_femur2_1"/>
    <child link="fix_right_femur2_3"/>
    <axis xyz="0 0 0"/>
  </joint>
  <link name="fix_rightfemer1_3">
    <inertial>
      <origin rpy="0 0 0" xyz="-0.0066861 -0.048875 0.018792"/>
      <mass value="0.008"/>
      <inertia ixx="2.2684E-06" ixy="-7.6294E-22" ixz="-3.6652E-07" iyy="1.446E-06" iyz="-5.8617E-22" izz="2.2752E-06"/>
    </inertial>
    <visual>
      <origin rpy="0 0 0" xyz="0 0 0"/>
      <geometry>
        <mesh filename="meshes/fix_rightfemer1_3.STL"/>
      </geometry>
      <material name="">
        <color rgba="0.79216 0.81961 0.93333 1"/>
      </material>
    </visual>
    <collision>
      <origin rpy="0 0 0" xyz="0 0 0"/>
      <geometry>
        <mesh filename="meshes/fix_rightfemer1_3.STL"/>
      </geometry>
    </collision>
  </link>
  <joint name="rightfemer1_3" type="fixed">
    <origin rpy="0 0 0" xyz="0 0 0"/>
    <parent link="revolute_rightfemer1_1"/>
    <child link="fix_rightfemer1_3"/>
    <axis xyz="0 0 0"/>
  </joint>
  <link name="fix_rightfemer1_4">
    <inertial>
      <origin rpy="0 0 0" xyz="-4.1633E-17 4.1633E-17 0.0494"/>
      <mass value="0.0003"/>
      <inertia ixx="7.2605E-09" ixy="1.6111E-24" ixz="-2.095E-25" iyy="7.2605E-09" iyz="-5.894E-25" izz="1.3645E-08"/>
    </inertial>
    <visual>
      <origin rpy="0 0 0" xyz="0 0 0"/>
      <geometry>
        <mesh filename="meshes/fix_rightfemer1_4.STL"/>
      </geometry>
      <material name="">
        <color rgba="0.79216 0.81961 0.93333 1"/>
      </material>
    </visual>
    <collision>
      <origin rpy="0 0 0" xyz="0 0 0"/>
      <geometry>
        <mesh filename="meshes/fix_rightfemer1_4.STL"/>
      </geometry>
    </collision>
  </link>
  <joint name="rightfemer1_4" type="fixed">
    <origin rpy="0 0 0" xyz="0 0 0"/>
    <parent link="revolute_rightfemer1_1"/>
    <child link="fix_rightfemer1_4"/>
    <axis xyz="0 0 0"/>
  </joint>
  <link name="fix_right_hip1motorbody">
    <inertial>
      <origin rpy="0 0 0" xyz="0.0066861 0.084858 -0.024125"/>
      <mass value="0.008"/>
      <inertia ixx="2.2684E-06" ixy="-3.6652E-07" ixz="4.9767E-23" iyy="2.2752E-06" iyz="-4.3615E-22" izz="1.446E-06"/>
    </inertial>
    <visual>
      <origin rpy="0 0 0" xyz="0 0 0"/>
      <geometry>
        <mesh filename="meshes/fix_right_hip1motorbody.STL"/>
      </geometry>
      <material name="">
        <color rgba="0.79216 0.81961 0.93333 1"/>
      </material>
    </visual>
    <collision>
      <origin rpy="0 0 0" xyz="0 0 0"/>
      <geometry>
        <mesh filename="meshes/fix_right_hip1motorbody.STL"/>
      </geometry>
    </collision>
  </link>
  <joint name="right_hip1motorbody" type="fixed">
    <origin rpy="0 0 0" xyz="0 0 0"/>
    <parent link="fix_rightlegtobaselink"/>
    <child link="fix_right_hip1motorbody"/>
    <axis xyz="0 0 0"/>
  </joint>
  <link name="fix_torsotobaselink1">
    <inertial>
      <origin rpy="0 0 0" xyz="-0.0012031 1.5888E-18 0.024015"/>
      <mass value="0.02"/>
      <inertia ixx="5.3699E-06" ixy="-2.5375E-21" ixz="4.9395E-07" iyy="1.0212E-05" iyz="6.478E-21" izz="1.098E-05"/>
    </inertial>
    <visual>
      <origin rpy="0 0 0" xyz="0 0 0"/>
      <geometry>
        <mesh filename="meshes/fix_torsotobaselink1.STL"/>
      </geometry>
      <material name="">
        <color rgba="0.79216 0.81961 0.93333 1"/>
      </material>
    </visual>
    <collision>
      <origin rpy="0 0 0" xyz="0 0 0"/>
      <geometry>
        <mesh filename="meshes/fix_torsotobaselink1.STL"/>
      </geometry>
    </collision>
  </link>
  <joint name="torsotobaselink1" type="fixed">
    <origin rpy="0 0 0" xyz="0 0 0"/>
    <parent link="base_link"/>
    <child link="fix_torsotobaselink1"/>
    <axis xyz="0 0 0"/>
  </joint>
  <link name="servo1">
    <inertial>
      <origin rpy="0 0 0" xyz="-7.7571E-11 0.015029 -0.029118"/>
      <mass value="0.165"/>
      <inertia ixx="3.834E-05" ixy="4.775E-14" ixz="-8.2973E-14" iyy="2.1548E-05" iyz="1.6188E-07" izz="3.1728E-05"/>
    </inertial>
    <visual>
      <origin rpy="0 0 0" xyz="0 0 0"/>
      <geometry>
        <mesh filename="meshes/servo1.STL"/>
      </geometry>
      <material name="">
        <color rgba="0.79216 0.81961 0.93333 1"/>
      </material>
    </visual>
    <collision>
      <origin rpy="0 0 0" xyz="0 0 0"/>
      <geometry>
        <mesh filename="meshes/servo1.STL"/>
      </geometry>
    </collision>
  </link>
  <joint name="torso" type="revolute">
    <origin rpy="1.57079632679489 0 1.5707963267949" xyz="0.0298000000000001 0 0.0422500000000002"/>
    <parent link="fix_torsotobaselink1"/>
    <child link="servo1"/>
    <axis xyz="0 0 1"/>
    <limit effort="5" lower="-1.0" upper="1.0" velocity="5"/>
  </joint>
  <link name="fix_torsolink1">
    <inertial>
      <origin rpy="0 0 0" xyz="-0.00015 0.049553 -0.0298"/>
      <mass value="0.01"/>
      <inertia ixx="1.0537E-06" ixy="1.3742E-22" ixz="8.0242E-15" iyy="1.857E-06" iyz="-1.3041E-22" izz="2.1198E-06"/>
    </inertial>
    <visual>
      <origin rpy="0 0 0" xyz="0 0 0"/>
      <geometry>
        <mesh filename="meshes/fix_torsolink1.STL"/>
      </geometry>
      <material name="">
        <color rgba="1 1 1 1"/>
      </material>
    </visual>
    <collision>
      <origin rpy="0 0 0" xyz="0 0 0"/>
      <geometry>
        <mesh filename="meshes/fix_torsolink1.STL"/>
      </geometry>
    </collision>
  </link>
  <joint name="torsolink1" type="fixed">
    <origin rpy="0 0 0" xyz="0 0 0"/>
    <parent link="servo1"/>
    <child link="fix_torsolink1"/>
    <axis xyz="0 0 0"/>
  </joint>
  <link name="fix_torsolink2">
    <inertial>
      <origin rpy="0 0 0" xyz="-0.00015 0.20875 -0.0298"/>
      <mass value="0.015"/>
      <inertia ixx="5.848E-05" ixy="-5.1101E-21" ixz="-9.0783E-24" iyy="1.4923E-07" iyz="-1.4156E-19" izz="5.848E-05"/>
    </inertial>
    <visual>
      <origin rpy="0 0 0" xyz="0 0 0"/>
      <geometry>
        <mesh filename="meshes/fix_torsolink2.STL"/>
      </geometry>
      <material name="">
        <color rgba="0.79216 0.81961 0.93333 1"/>
      </material>
    </visual>
    <collision>
      <origin rpy="0 0 0" xyz="0 0 0"/>
      <geometry>
        <mesh filename="meshes/fix_torsolink2.STL"/>
      </geometry>
    </collision>
  </link>
  <joint name="torsolink2" type="fixed">
    <origin rpy="0 0 0" xyz="0 0 0"/>
    <parent link="servo1"/>
    <child link="fix_torsolink2"/>
    <axis xyz="0 0 0"/>
  </joint>
  <link name="fix_torsolink3">
    <inertial>
      <origin rpy="0 0 0" xyz="-0.00015 0.36452 -0.0298"/>
      <mass value="0.006"/>
      <inertia ixx="6.0919E-07" ixy="1.386E-22" ixz="1.2785E-17" iyy="5.457E-07" iyz="-2.4494E-22" izz="7.0719E-07"/>
    </inertial>
    <visual>
      <origin rpy="0 0 0" xyz="0 0 0"/>
      <geometry>
        <mesh filename="meshes/fix_torsolink3.STL"/>
      </geometry>
      <material name="">
        <color rgba="1 1 1 1"/>
      </material>
    </visual>
    <collision>
      <origin rpy="0 0 0" xyz="0 0 0"/>
      <geometry>
        <mesh filename="meshes/fix_torsolink3.STL"/>
      </geometry>
    </collision>
  </link>
  <joint name="torsolink3" type="fixed">
    <origin rpy="0 0 0" xyz="0 0 0"/>
    <parent link="servo1"/>
    <child link="fix_torsolink3"/>
    <axis xyz="0 0 0"/>
  </joint>
  <link name="fix_torsoweight">
    <inertial>
      <origin rpy="0 0 0" xyz="-0.00015 0.37425 -0.0298"/>
      <mass value="0.22"/>
      <inertia ixx="2.2936E-05" ixy="-1.0029E-21" ixz="3.3123E-22" iyy="4.5838E-05" iyz="5.2146E-20" izz="2.2933E-05"/>
    </inertial>
    <visual>
      <origin rpy="0 0 0" xyz="0 0 0"/>
      <geometry>
        <mesh filename="meshes/fix_torsoweight.STL"/>
      </geometry>
      <material name="">
        <color rgba="0.79216 0.81961 0.93333 1"/>
      </material>
    </visual>
    <collision>
      <origin rpy="0 0 0" xyz="0 0 0"/>
      <geometry>
        <mesh filename="meshes/fix_torsoweight.STL"/>
      </geometry>
    </collision>
  </link>
  <joint name="torsoweight" type="fixed">
    <origin rpy="0 0 0" xyz="0 0 0"/>
    <parent link="servo1"/>
    <child link="fix_torsoweight"/>
    <axis xyz="0 0 0"/>
  </joint>
  <link name="fix_torsotobaselink2">
    <inertial>
      <origin rpy="0 0 0" xyz="-2.3201E-18 7.7378E-18 0.01875"/>
      <mass value="0.008"/>
      <inertia ixx="2.331E-06" ixy="-1.593E-21" ixz="-5.911E-23" iyy="1.9323E-06" iyz="5.3201E-22" izz="4.2505E-06"/>
    </inertial>
    <visual>
      <origin rpy="0 0 0" xyz="0 0 0"/>
      <geometry>
        <mesh filename="meshes/fix_torsotobaselink2.STL"/>
      </geometry>
      <material name="">
        <color rgba="0.79216 0.81961 0.93333 1"/>
      </material>
    </visual>
    <collision>
      <origin rpy="0 0 0" xyz="0 0 0"/>
      <geometry>
        <mesh filename="meshes/fix_torsotobaselink2.STL"/>
      </geometry>
    </collision>
  </link>
  <joint name="torsotobaselink" type="fixed">
    <origin rpy="0 0 0" xyz="0 0 0"/>
    <parent link="base_link"/>
    <child link="fix_torsotobaselink2"/>
    <axis xyz="0 0 0"/>
  </joint>
  <link name="fix_cfpipe1tobaselink">
    <inertial>
      <origin rpy="0 0 0" xyz="0.01375 2.1582E-18 0.00925"/>
      <mass value="0.007"/>
      <inertia ixx="2.4432E-06" ixy="6.3549E-38" ixz="0" iyy="5.162E-08" iyz="5.5801E-22" izz="2.4432E-06"/>
    </inertial>
    <visual>
      <origin rpy="0 0 0" xyz="0 0 0"/>
      <geometry>
        <mesh filename="meshes/fix_cfpipe1tobaselink.STL"/>
      </geometry>
      <material name="">
        <color rgba="1 1 1 1"/>
      </material>
    </visual>
    <collision>
      <origin rpy="0 0 0" xyz="0 0 0"/>
      <geometry>
        <mesh filename="meshes/fix_cfpipe1tobaselink.STL"/>
      </geometry>
    </collision>
  </link>
  <joint name="cfpipe1tobaselink" type="fixed">
    <origin rpy="0 0 0" xyz="0 0 0"/>
    <parent link="base_link"/>
    <child link="fix_cfpipe1tobaselink"/>
    <axis xyz="0 1 0"/>
  </joint>
  <link name="fix_cfpipe2tobaselink">
    <inertial>
      <origin rpy="0 0 0" xyz="-0.01375 2.1582E-18 0.00925"/>
      <mass value="0.007"/>
      <inertia ixx="2.4432E-06" ixy="6.3549E-38" ixz="0" iyy="5.162E-08" iyz="5.5801E-22" izz="2.4432E-06"/>
    </inertial>
    <visual>
      <origin rpy="0 0 0" xyz="0 0 0"/>
      <geometry>
        <mesh filename="meshes/fix_cfpipe2tobaselink.STL"/>
      </geometry>
      <material name="">
        <color rgba="1 1 1 1"/>
      </material>
    </visual>
    <collision>
      <origin rpy="0 0 0" xyz="0 0 0"/>
      <geometry>
        <mesh filename="meshes/fix_cfpipe2tobaselink.STL"/>
      </geometry>
    </collision>
  </link>
  <joint name="cfpipe2tobaselink" type="fixed">
    <origin rpy="0 0 0" xyz="0 0 0"/>
    <parent link="base_link"/>
    <child link="fix_cfpipe2tobaselink"/>
    <axis xyz="0 0 0"/>
  </joint>
  <ros2_control name="leg" type="system">
    <hardware>
      <plugin>dynamixel_hardware/DynamixelHardware</plugin>
      <param name="usb_port">/dev/ttyUSB0</param>
      <param name="baud_rate">57600</param>
      <param name="control_mode">position</param>
    </hardware>
    <joint name="right_hip1">
      <param name="id">1</param>
      <command_interface name="position"/>
      <!-- <command_interface name="velocity"/> -->
      <state_interface name="position"/>
      <state_interface name="velocity"/>
    </joint>
    <joint name="right_hip2">
      <param name="id">2</param>
      <command_interface name="position"/>
      <!-- <command_interface name="velocity"/> -->
      <state_interface name="position"/>
      <state_interface name="velocity"/>
    </joint>
    <joint name="right_knee">
      <param name="id">3</param>
      <command_interface name="position"/>
      <!-- <command_interface name="velocity"/> -->
      <state_interface name="position"/>
      <state_interface name="velocity"/>
    </joint>
    <joint name="left_hip1">
      <param name="id">5</param>
      <command_interface name="position"/>
      <!-- <command_interface name="velocity"/> -->
      <state_interface name="position"/>
      <state_interface name="velocity"/>
    </joint>
    <joint name="left_hip2">
      <param name="id">6</param>
      <command_interface name="position"/>
      <!-- <command_interface name="velocity"/> -->
      <state_interface name="position"/>
      <state_interface name="velocity"/>
    </joint>
    <joint name="left_knee">
      <param name="id">7</param>
      <command_interface name="position"/>
      <!-- <command_interface name="velocity"/> -->
      <state_interface name="position"/>
      <state_interface name="velocity"/>
    </joint>
    <joint name="right_ankle">
      <param name="id">4</param>
      <command_interface name="position"/>
      <!-- <command_interface name="velocity"/> -->
      <state_interface name="position"/>
      <state_interface name="velocity"/>
    </joint>
    <joint name="left_ankle">
      <param name="id">8</param>
      <command_interface name="position"/>
      <!-- <command_interface name="velocity"/> -->
      <state_interface name="position"/>
      <state_interface name="velocity"/>
    </joint>
    <joint name="torso">
      <param name="id">9</param>
      <command_interface name="position"/>
      <!-- <command_interface name="velocity"/> -->
      <state_interface name="position"/>
      <state_interface name="velocity"/>
    </joint>
  </ros2_control>
</robot>
